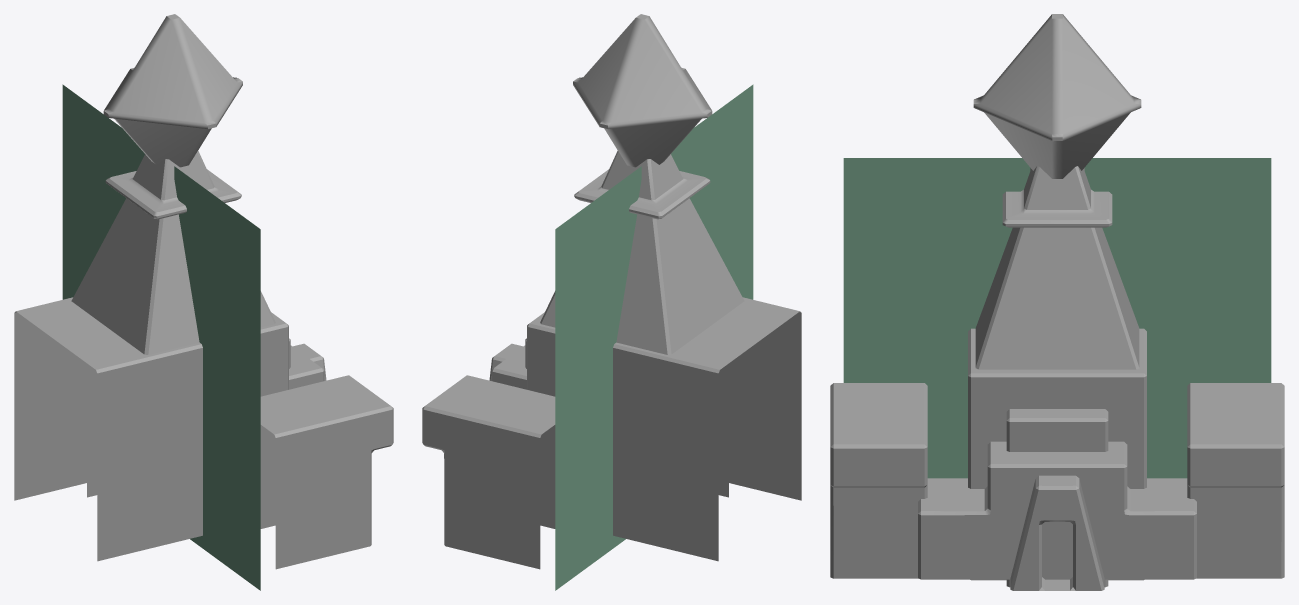
The model's file is Palacio.fbx.
3 views of the same model, side by side, from view 1: azimuth 30°, elevation 25°; view 2: azimuth 150°, elevation 25°; view 3: azimuth 270°, elevation 25° (orthographic). The views are drawn at different scales.
Visible parts, largest first — view 1: Palacio; view 2: Palacio; view 3: Palacio.
Boxes of the visible parts, bbox=[...] form: Palacio: bbox=[14, 14, 393, 590]; Palacio: bbox=[422, 14, 801, 590]; Palacio: bbox=[830, 14, 1284, 590].
Size of the model in its own units: 20.51 by 37.69 by 28.81.
